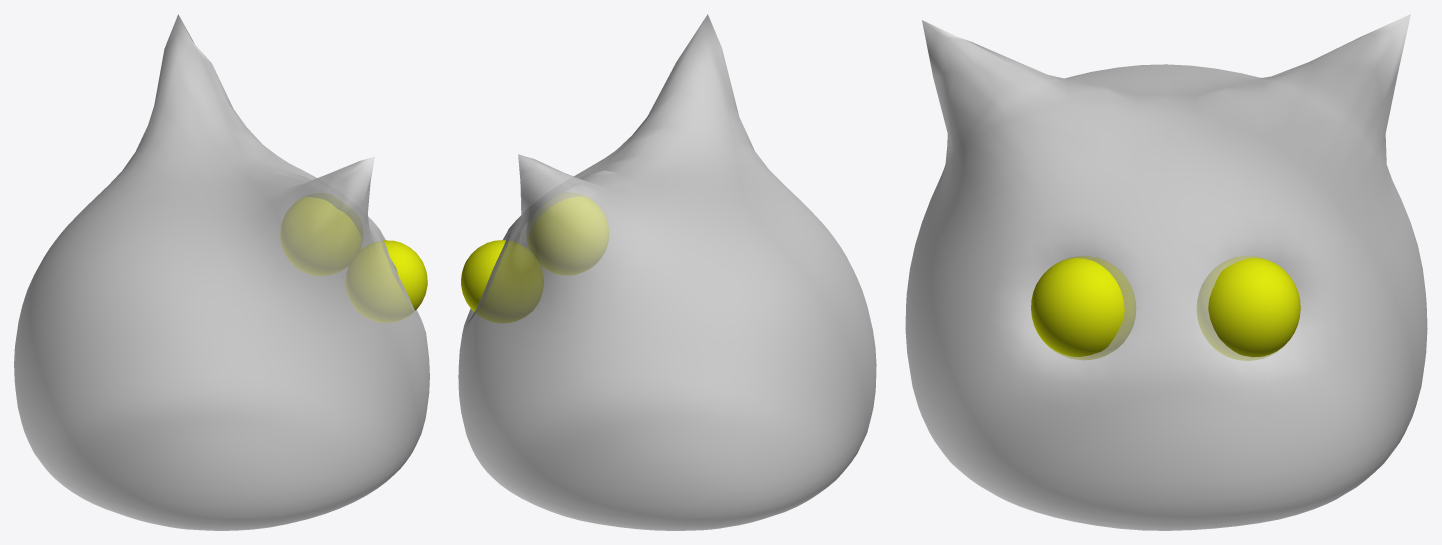
The model's file is Slime.fbx.
3 renders of one model, left to right at view 1: azimuth 30°, elevation 25°; view 2: azimuth 150°, elevation 25°; view 3: azimuth 270°, elevation 25°, orthographic. The views are drawn at different scales.
Parts seen in each view (by area): view 1: Cube.002; view 2: Cube.002; view 3: Cube.002.
Boxes of the visible parts, x1,y1,x2,y2 form: Cube.002: (14, 14, 429, 530); Cube.002: (458, 14, 876, 530); Cube.002: (905, 14, 1427, 530).
Size of the model in its own units: 168 by 166 by 169.
